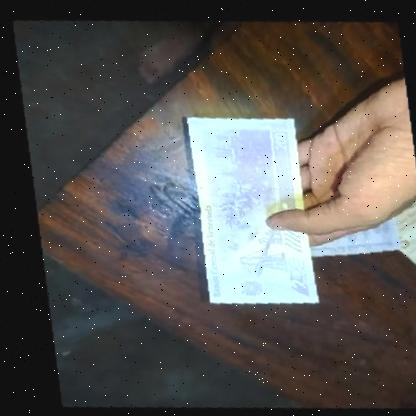two_hundred-back-vef: (172, 108, 323, 310)
